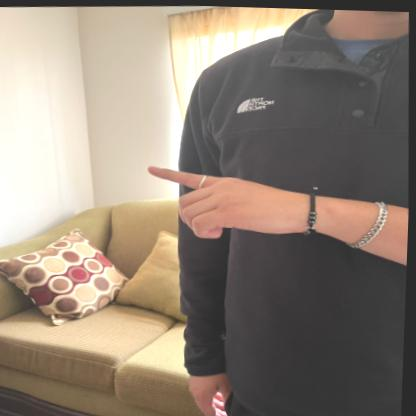S: (139, 154, 316, 249)
